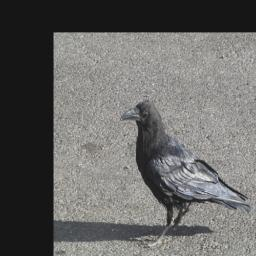Crow: (120, 98, 253, 248)
